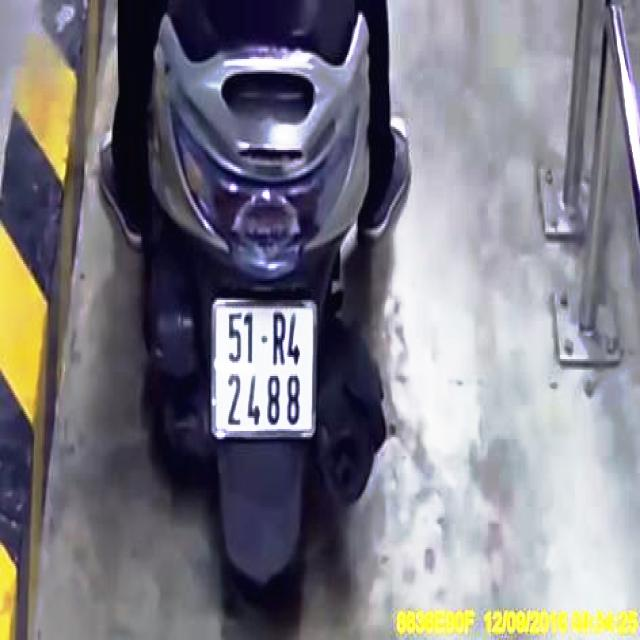license_plate: (213, 300, 317, 438)
